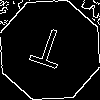T: (25, 25, 69, 78)
